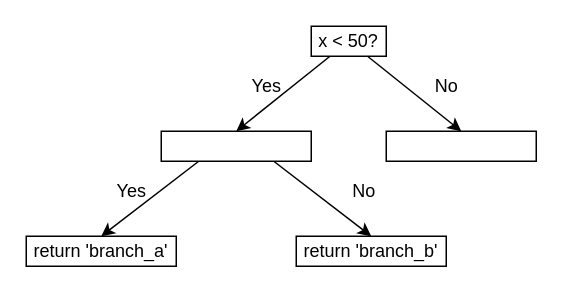
Some shapes in this 563 by 293 pixel diagram are drawn without their labels. Here are the shapes that lost their labels. From the top down, the centre of each, then its label:
point 235,145: x % 2 == 0?
point 460,145: return 'branch_c'
